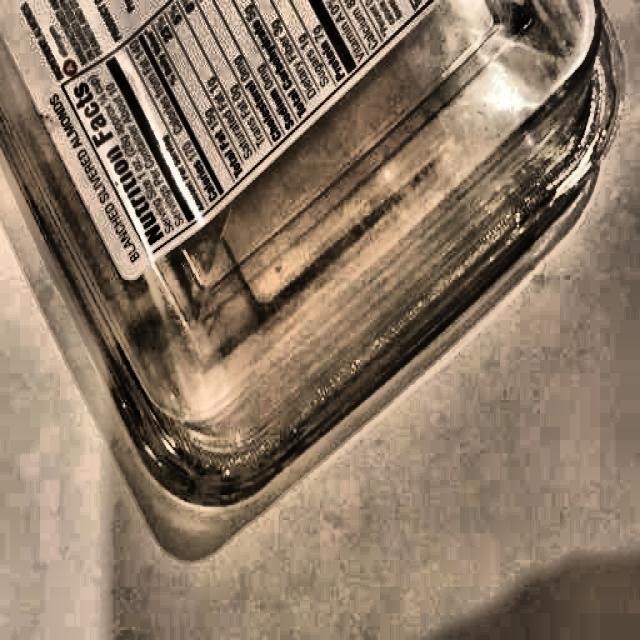Plastic: (5, 0, 602, 560)
